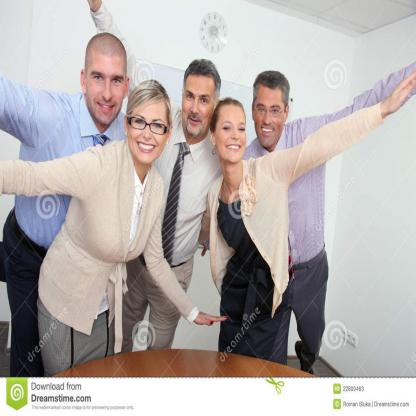face: (89, 51, 125, 125), (132, 98, 167, 164), (255, 83, 283, 149), (185, 75, 214, 137), (218, 106, 246, 163)
